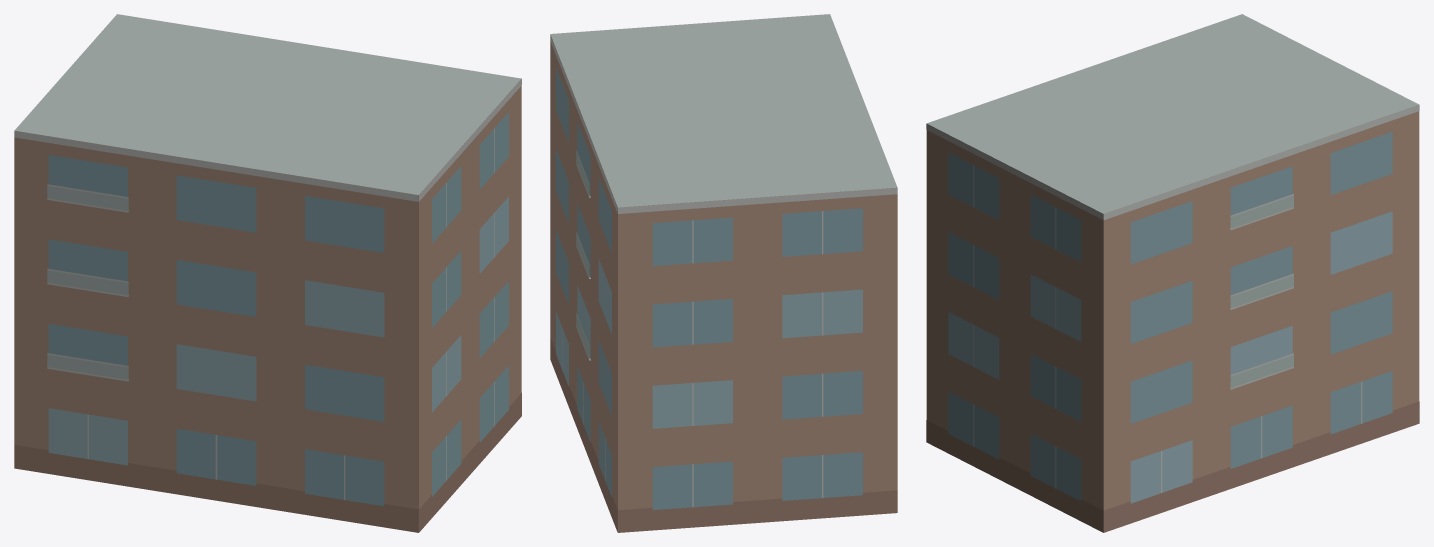
File: survey-upis-32843188.glb
3 renders of one model, left to right at view 1: azimuth 30°, elevation 25°; view 2: azimuth 150°, elevation 25°; view 3: azimuth 270°, elevation 25°, orthographic. The views are drawn at different scales.
Visible parts, largest first — view 1: survey-upis-32843188.tmp; view 2: survey-upis-32843188.tmp; view 3: survey-upis-32843188.tmp.
Part boxes in pixels (x1,y1,x2,y2): survey-upis-32843188.tmp: [14, 14, 521, 532]; survey-upis-32843188.tmp: [550, 14, 897, 532]; survey-upis-32843188.tmp: [926, 14, 1419, 532].
Bounding box in the file's own units: 16.41 × 12.2 × 17.1.
